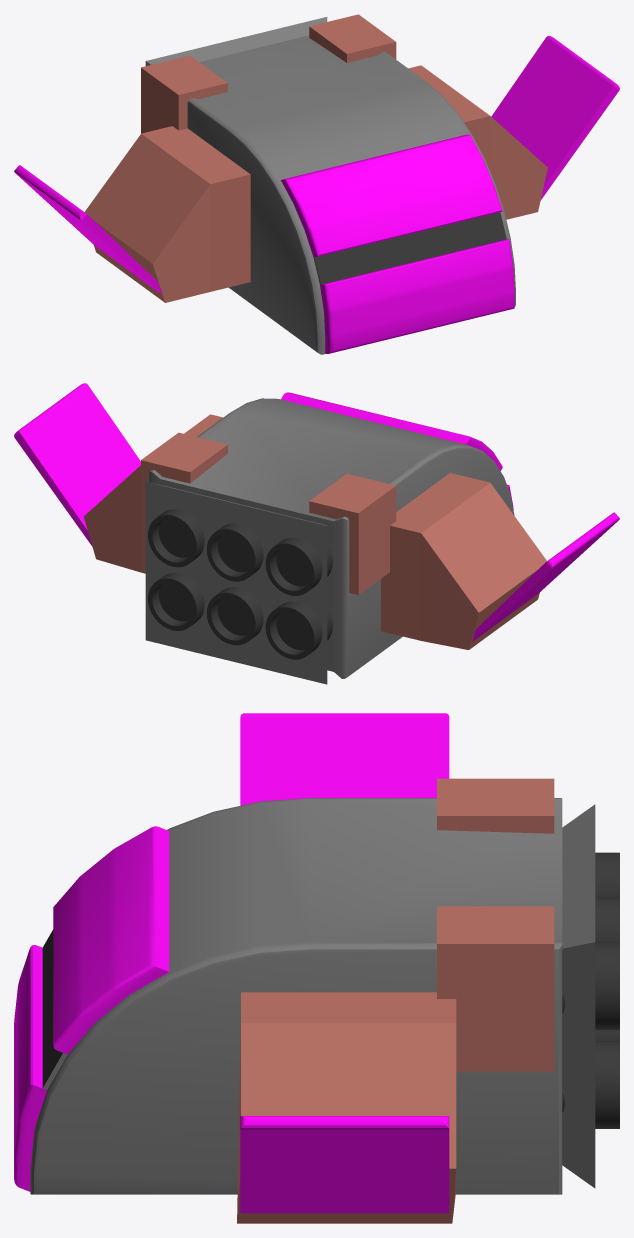
File: val.fbx
3 renders of one model, top to bottom at view 1: azimuth 30°, elevation 25°; view 2: azimuth 150°, elevation 25°; view 3: azimuth 270°, elevation 25°, orthographic. The views are drawn at different scales.
Visible parts, largest first — view 1: Cube.056, Cube.058, Cube.059, Cube.057; view 2: Cube.056, Cube.058, Cylinder.018, Cube.059, Cube.057; view 3: Cube.056, Cube.059, Cube.058, Cube.057, Cylinder.018.
Boxes of the visible parts, x1,y1,x2,y2 form: Cube.056: [145, 17, 515, 354]; Cube.058: [84, 65, 547, 302]; Cube.059: [14, 36, 619, 294]; Cube.057: [141, 14, 396, 133]; Cube.056: [145, 392, 514, 684]; Cube.058: [83, 414, 546, 649]; Cylinder.018: [148, 509, 332, 659]; Cube.059: [14, 383, 619, 641]; Cube.057: [141, 432, 396, 595]; Cube.056: [14, 798, 595, 1194]; Cube.059: [240, 713, 449, 1213]; Cube.058: [237, 992, 456, 1223]; Cube.057: [437, 778, 554, 1071]; Cylinder.018: [562, 852, 619, 1128].
Bounding box in the file's own units: 230 × 68.18 × 144.
